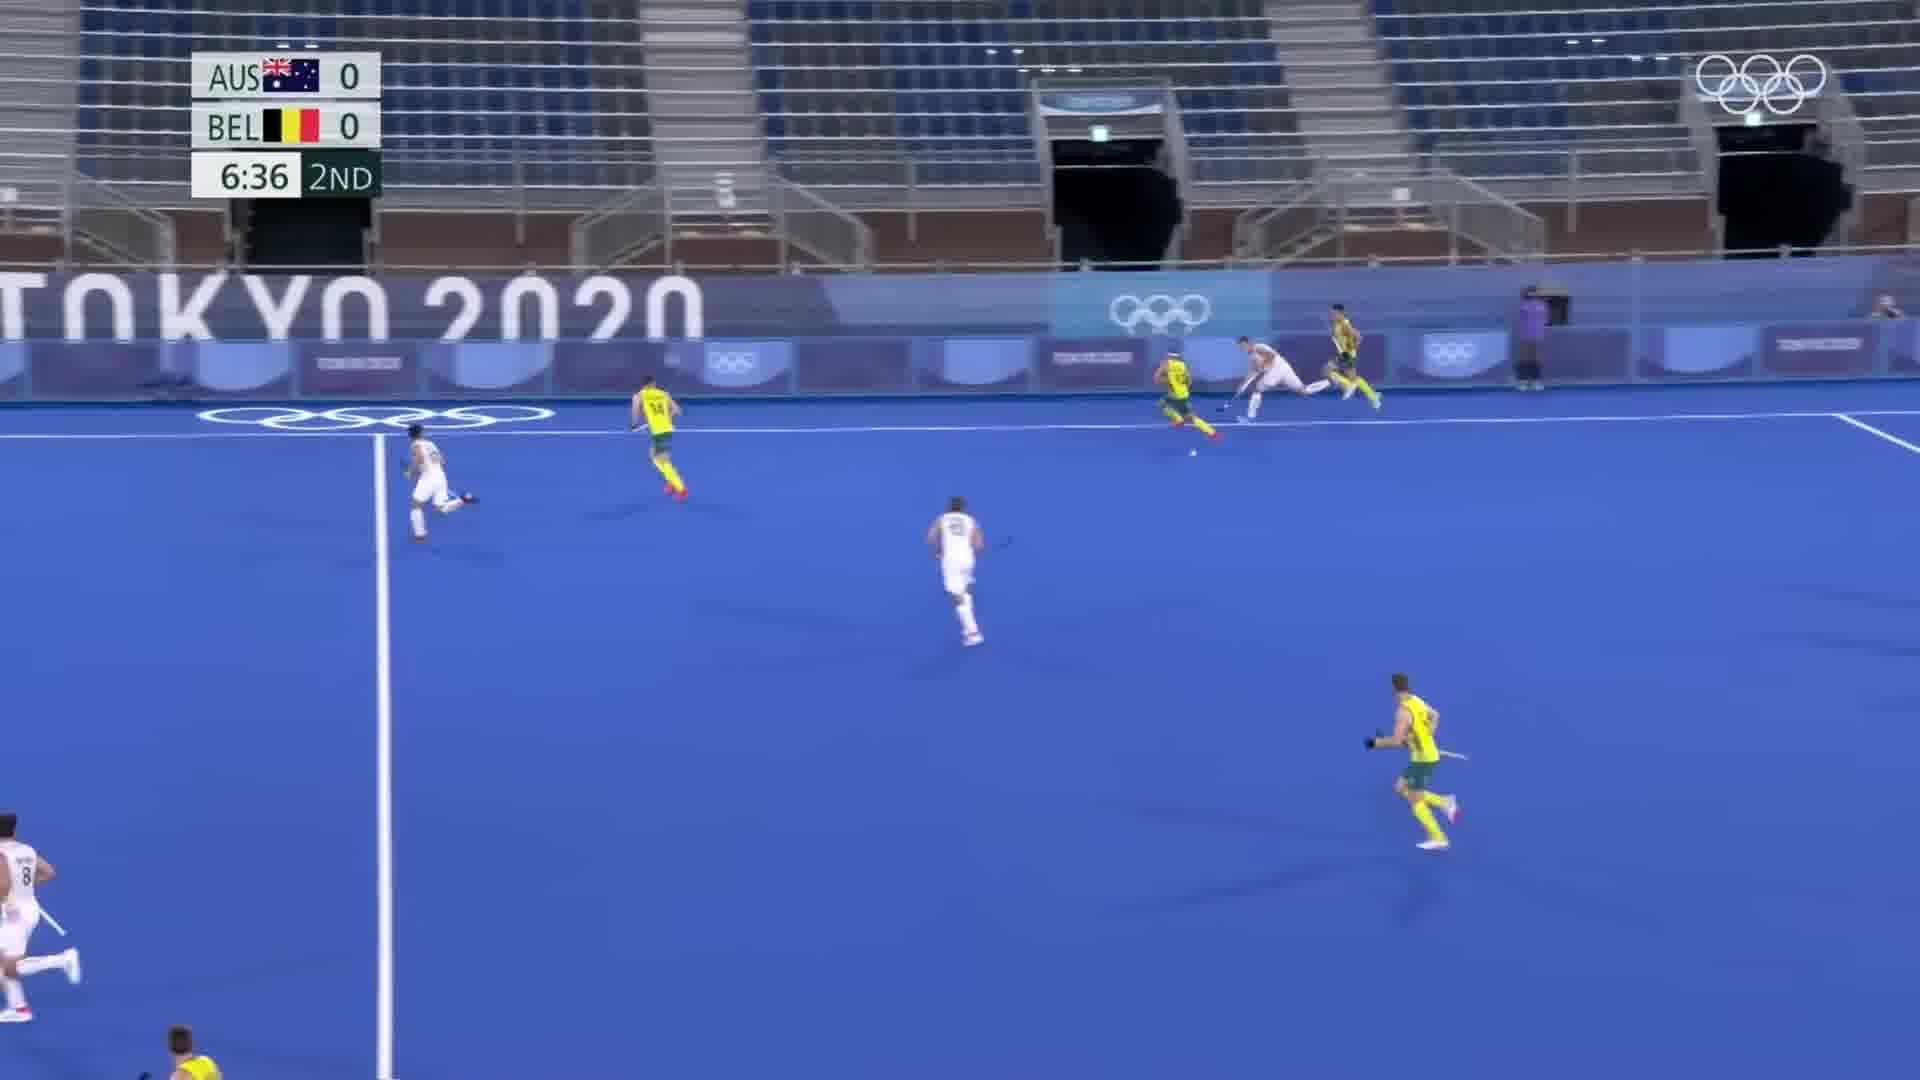ball: (1185, 443, 1204, 462)
